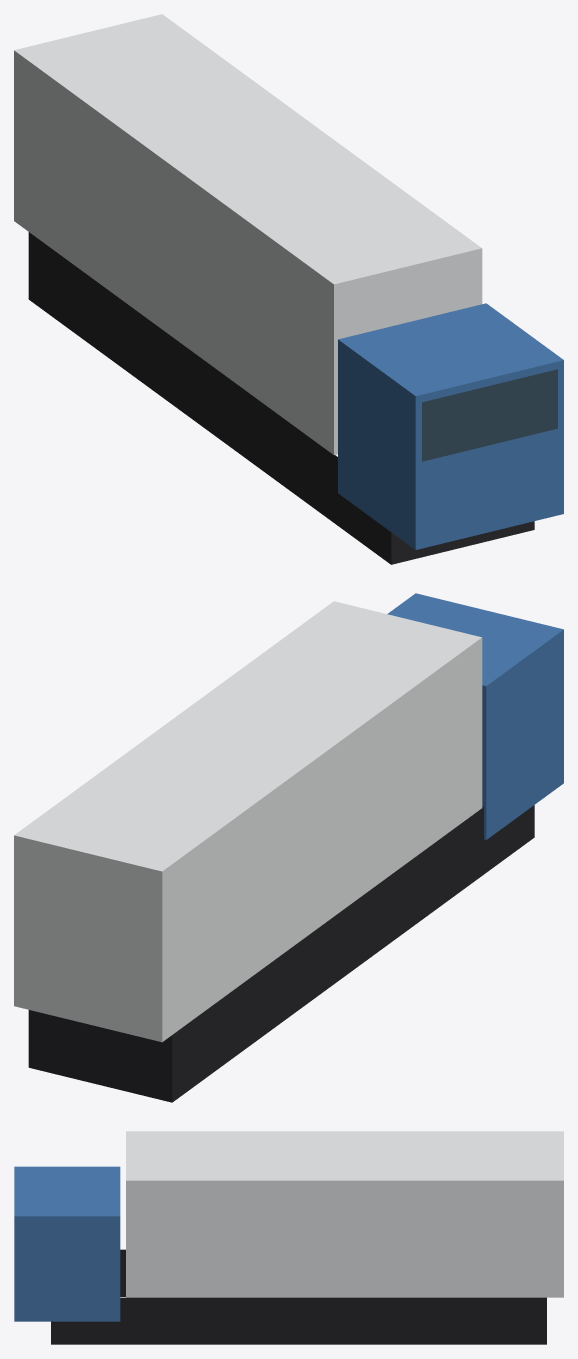
File: 1_far.fbx
3 views of the same model, one above another, from view 1: azimuth 30°, elevation 25°; view 2: azimuth 150°, elevation 25°; view 3: azimuth 270°, elevation 25° (orthographic). The views are drawn at different scales.
Parts seen in each view (by area): view 1: 11_1_far; view 2: 11_1_far; view 3: 11_1_far.
Part boxes in pixels (x1,y1,x2,y2): 11_1_far: (14, 14, 563, 564); 11_1_far: (14, 593, 563, 1102); 11_1_far: (14, 1131, 563, 1344).
Size of the model in its own units: 2.48 by 3.85 by 11.64.
